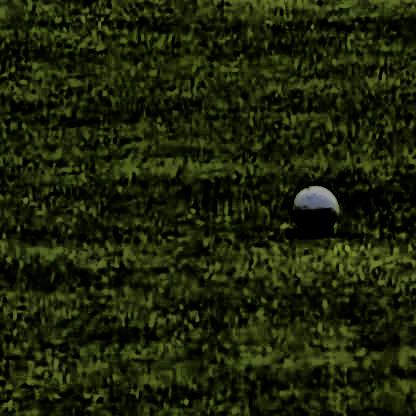golfball: (290, 178, 338, 229)
